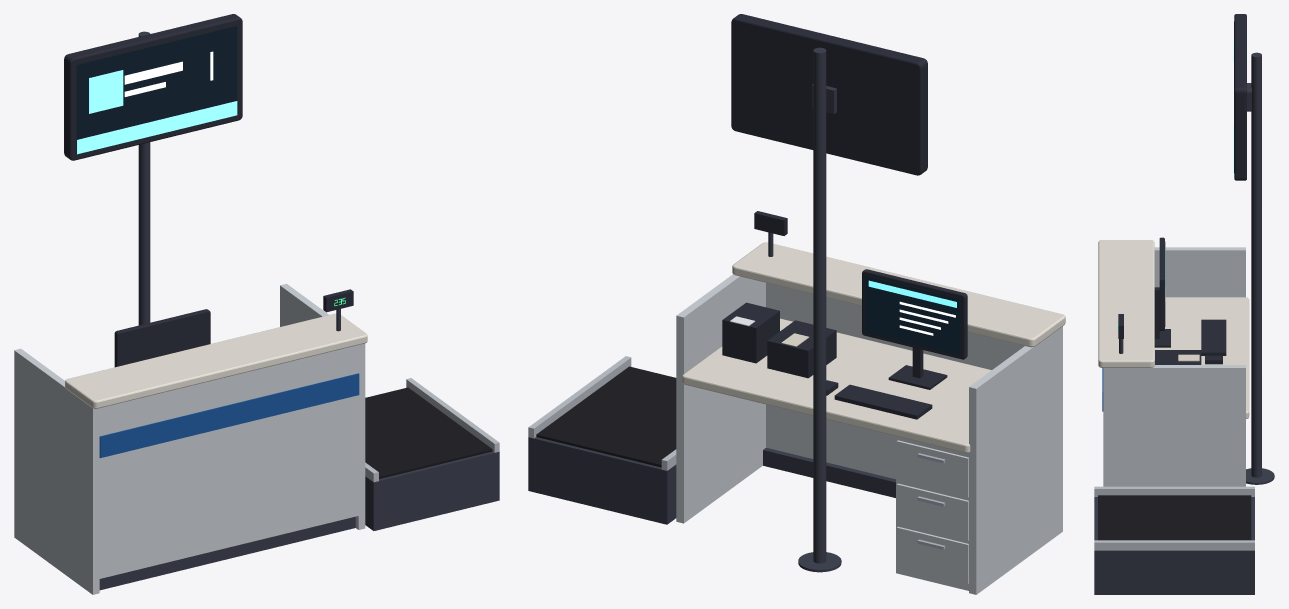
The model's file is air-022.glb.
3 renders of one model, left to right at view 1: azimuth 30°, elevation 25°; view 2: azimuth 150°, elevation 25°; view 3: azimuth 270°, elevation 25°, orthographic. The views are drawn at different scales.
Parts seen in each view (by area): view 1: counter_panel, dark_steel, laminate, monitor_screen, plastic_dark, conveyor_belt, airline_blue, pump_screen, stainless, display_white; view 2: counter_panel, plastic_dark, laminate, dark_steel, conveyor_belt, monitor_screen, stainless; view 3: counter_panel, dark_steel, laminate, conveyor_belt, plastic_dark, stainless.
Part boxes in pixels (bbox=[...]): counter_panel: bbox=[14, 283, 365, 594]; dark_steel: bbox=[99, 31, 499, 590]; laminate: bbox=[65, 313, 367, 408]; monitor_screen: bbox=[76, 26, 237, 153]; plastic_dark: bbox=[64, 14, 353, 367]; conveyor_belt: bbox=[365, 387, 492, 478]; airline_blue: bbox=[99, 373, 359, 458]; pump_screen: bbox=[77, 70, 237, 154]; stainless: bbox=[365, 378, 499, 482]; display_white: bbox=[124, 51, 213, 96]; counter_panel: bbox=[676, 274, 1062, 594]; plastic_dark: bbox=[722, 14, 967, 419]; laminate: bbox=[682, 242, 1065, 453]; dark_steel: bbox=[528, 47, 895, 572]; conveyor_belt: bbox=[536, 366, 676, 467]; monitor_screen: bbox=[865, 275, 960, 355]; stainless: bbox=[528, 356, 676, 470]; counter_panel: bbox=[1103, 247, 1245, 486]; dark_steel: bbox=[1094, 52, 1274, 594]; laminate: bbox=[1098, 240, 1249, 418]; conveyor_belt: bbox=[1098, 495, 1251, 540]; plastic_dark: bbox=[1118, 14, 1246, 364]; stainless: bbox=[1094, 486, 1254, 550].
Size of the model in its own units: 2.37 by 2.64 by 1.01.
